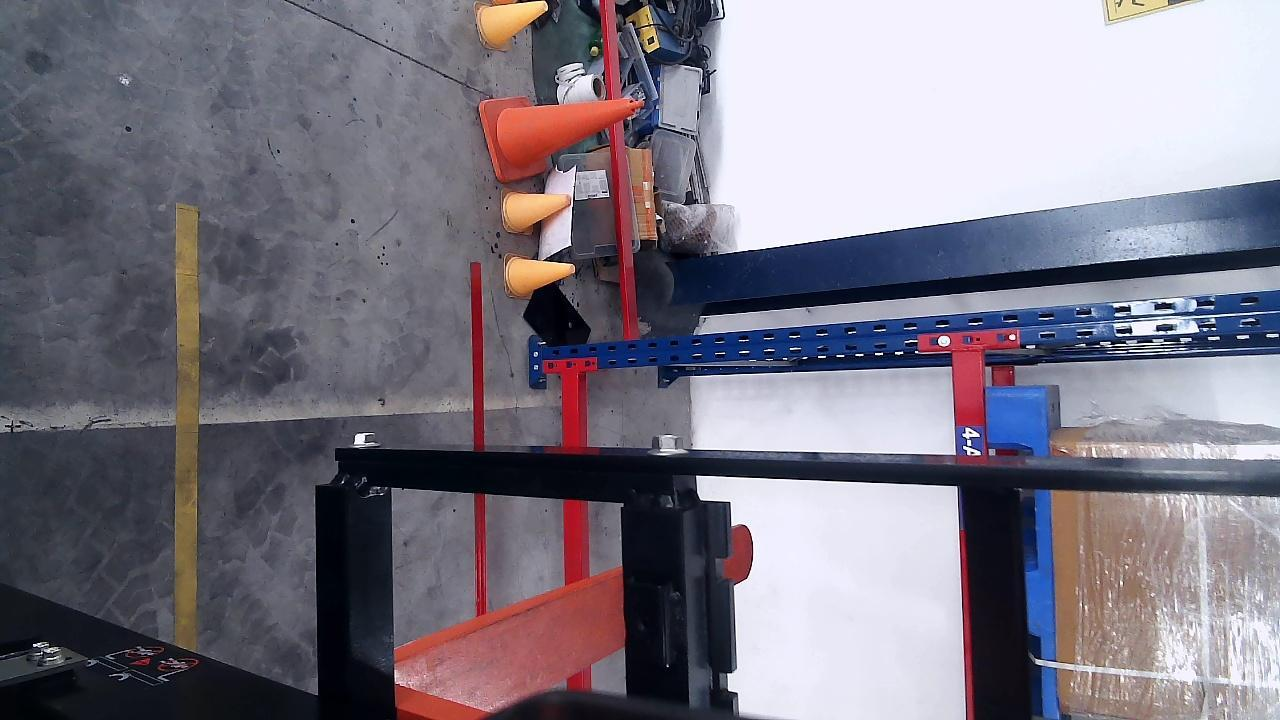h_rack: (562, 377, 590, 692)
red_line: (466, 262, 490, 612)
yellow_line: (175, 205, 200, 653)
